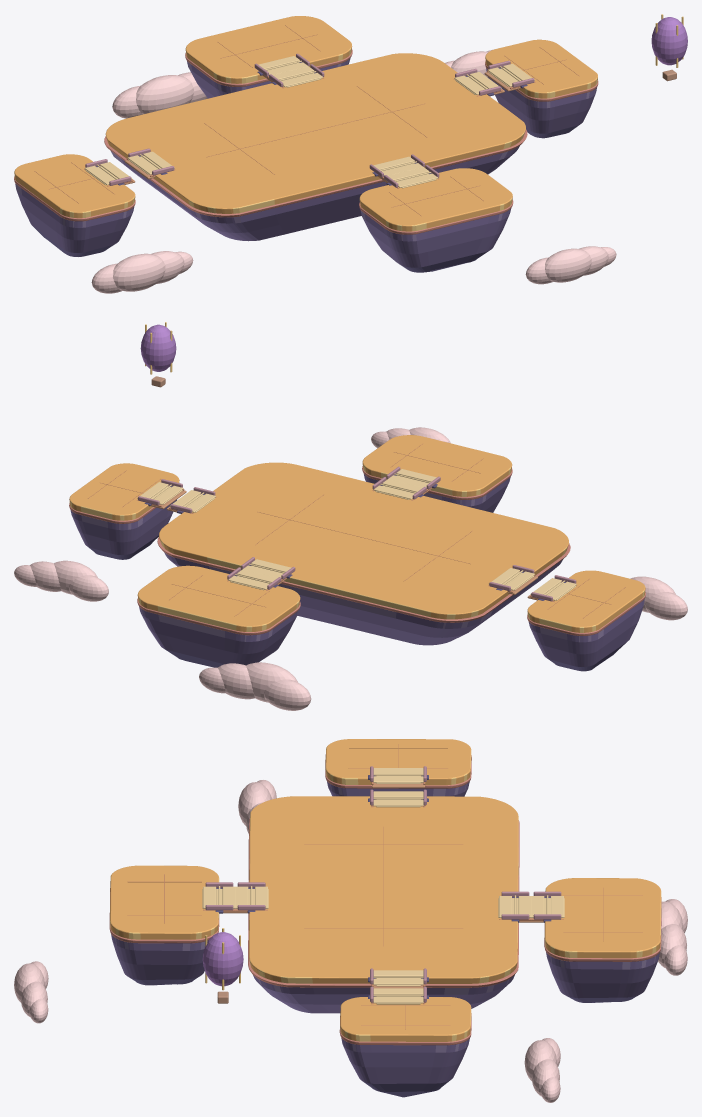
File: open_ringout_art_v3.glb
3 views of the same model, one above another, from view 1: azimuth 30°, elevation 25°; view 2: azimuth 150°, elevation 25°; view 3: azimuth 270°, elevation 25° (orthographic). The views are drawn at different scales.
Parts seen in each view (by area): view 1: P32_MainIsland_DeckShell, P32_OuterIsland_South_DeckShell, P32_OuterIsland_North_DeckShell, P32_MainIsland_ContinuousUnderside, P32_OuterIsland_North_ContinuousUnderside, P32_OuterIsland_West_DeckShell, P32_OuterIsland_East_DeckShell, P32_OuterIsland_West_ContinuousUnderside, P32_OuterIsland_East_ContinuousUnderside, P32_CloudLayer_West, P32_CloudLayer_South, P32_CloudLayer_North (+15 smaller); view 2: P32_MainIsland_DeckShell, P32_OuterIsland_South_DeckShell, P32_OuterIsland_North_DeckShell, P32_MainIsland_ContinuousUnderside, P32_OuterIsland_South_ContinuousUnderside, P32_OuterIsland_West_DeckShell, P32_OuterIsland_East_DeckShell, P32_CloudLayer_South, P32_OuterIsland_West_ContinuousUnderside, P32_OuterIsland_East_ContinuousUnderside, P32_CloudLayer_East, P32_MainIsland_WarmBand (+13 smaller); view 3: P32_MainIsland_DeckShell, P32_OuterIsland_South_DeckShell, P32_OuterIsland_North_DeckShell, P32_OuterIsland_West_DeckShell, P32_OuterIsland_East_DeckShell, P32_OuterIsland_East_ContinuousUnderside, P32_OuterIsland_South_ContinuousUnderside, P32_OuterIsland_North_ContinuousUnderside, P32_MainIsland_ContinuousUnderside, P32_CloudLayer_South, P32_CloudLayer_East, P32_HotAirBalloon_Envelope (+14 smaller).
Boxes of the visible parts, x1=… form: P32_MainIsland_DeckShell: x1=105, y1=53, x2=525, y2=213; P32_OuterIsland_South_DeckShell: x1=185, y1=16, x2=352, y2=83; P32_OuterIsland_North_DeckShell: x1=359, y1=168, x2=512, y2=231; P32_MainIsland_ContinuousUnderside: x1=110, y1=146, x2=519, y2=241; P32_OuterIsland_North_ContinuousUnderside: x1=360, y1=208, x2=511, y2=272; P32_OuterIsland_West_DeckShell: x1=14, y1=154, x2=135, y2=218; P32_OuterIsland_East_DeckShell: x1=485, y1=39, x2=597, y2=98; P32_OuterIsland_West_ContinuousUnderside: x1=15, y1=184, x2=134, y2=256; P32_OuterIsland_East_ContinuousUnderside: x1=486, y1=68, x2=596, y2=138; P32_CloudLayer_West: x1=91, y1=251, x2=193, y2=293; P32_CloudLayer_South: x1=112, y1=72, x2=207, y2=118; P32_CloudLayer_North: x1=525, y1=246, x2=616, y2=284; P32_MainIsland_DeckShell: x1=159, y1=462, x2=568, y2=619; P32_OuterIsland_South_DeckShell: x1=137, y1=565, x2=300, y2=631; P32_OuterIsland_North_DeckShell: x1=362, y1=435, x2=512, y2=496; P32_MainIsland_ContinuousUnderside: x1=164, y1=552, x2=562, y2=645; P32_OuterIsland_South_ContinuousUnderside: x1=139, y1=606, x2=298, y2=667; P32_OuterIsland_West_DeckShell: x1=527, y1=570, x2=645, y2=632; P32_OuterIsland_East_DeckShell: x1=69, y1=463, x2=179, y2=520; P32_CloudLayer_South: x1=199, y1=662, x2=311, y2=710; P32_OuterIsland_West_ContinuousUnderside: x1=528, y1=598, x2=644, y2=671; P32_OuterIsland_East_ContinuousUnderside: x1=70, y1=499, x2=176, y2=559; P32_CloudLayer_East: x1=14, y1=560, x2=108, y2=601; P32_MainIsland_WarmBand: x1=157, y1=537, x2=570, y2=622; P32_MainIsland_DeckShell: x1=249, y1=796, x2=518, y2=983; P32_OuterIsland_South_DeckShell: x1=544, y1=878, x2=661, y2=958; P32_OuterIsland_North_DeckShell: x1=110, y1=865, x2=219, y2=939; P32_OuterIsland_West_DeckShell: x1=325, y1=739, x2=471, y2=785; P32_OuterIsland_East_DeckShell: x1=340, y1=997, x2=471, y2=1041; P32_OuterIsland_East_ContinuousUnderside: x1=341, y1=1038, x2=469, y2=1097; P32_OuterIsland_South_ContinuousUnderside: x1=546, y1=952, x2=659, y2=1002; P32_OuterIsland_North_ContinuousUnderside: x1=111, y1=934, x2=207, y2=985; P32_MainIsland_ContinuousUnderside: x1=253, y1=975, x2=514, y2=1013; P32_CloudLayer_South: x1=658, y1=899, x2=687, y2=975; P32_CloudLayer_East: x1=524, y1=1038, x2=560, y2=1102; P32_HotAirBalloon_Envelope: x1=202, y1=932, x2=243, y2=986.
Bounding box in the file's own units: 102 × 29.85 × 92.24.
